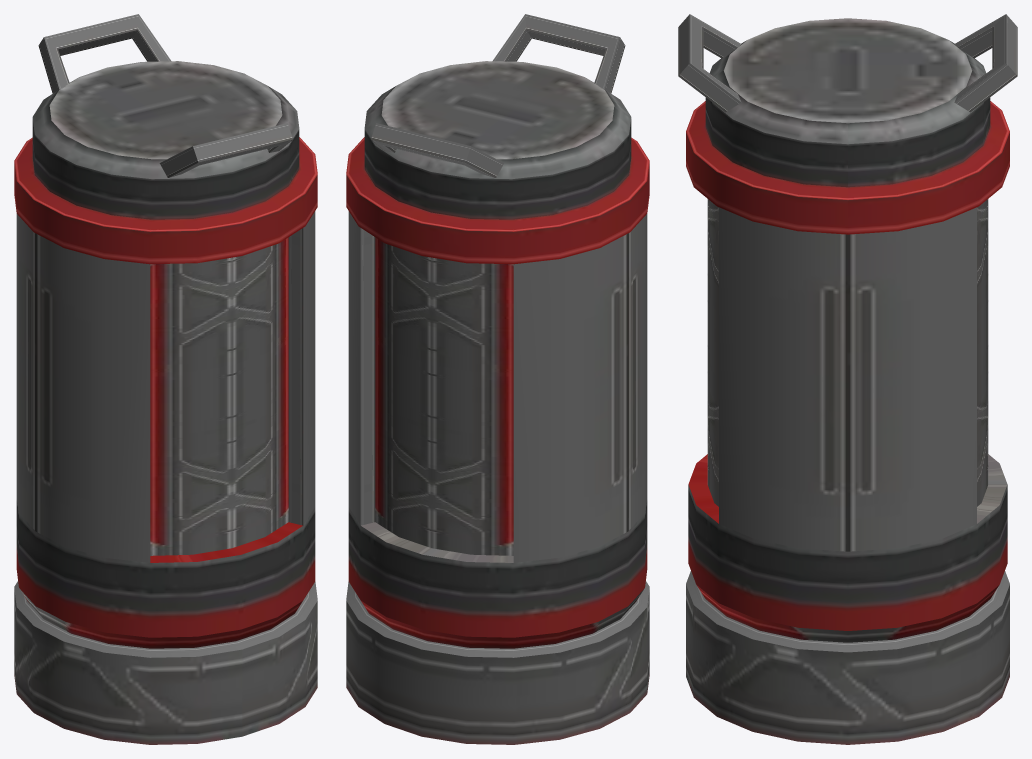
The model's file is fut-tambor.gltf.
3 views of the same model, side by side, from view 1: azimuth 30°, elevation 25°; view 2: azimuth 150°, elevation 25°; view 3: azimuth 270°, elevation 25° (orthographic). The views are drawn at different scales.
Visible parts, largest first — view 1: Prop_Barrel_Large; view 2: Prop_Barrel_Large; view 3: Prop_Barrel_Large.
Part boxes in pixels (box(x1,y1,x2,y2)): Prop_Barrel_Large: box(14, 14, 317, 744); Prop_Barrel_Large: box(346, 14, 649, 744); Prop_Barrel_Large: box(678, 14, 1017, 744).
Bounding box in the file's own units: 0.2539 × 0.5513 × 0.266.
Materials: 2 (2 with a texture image).
